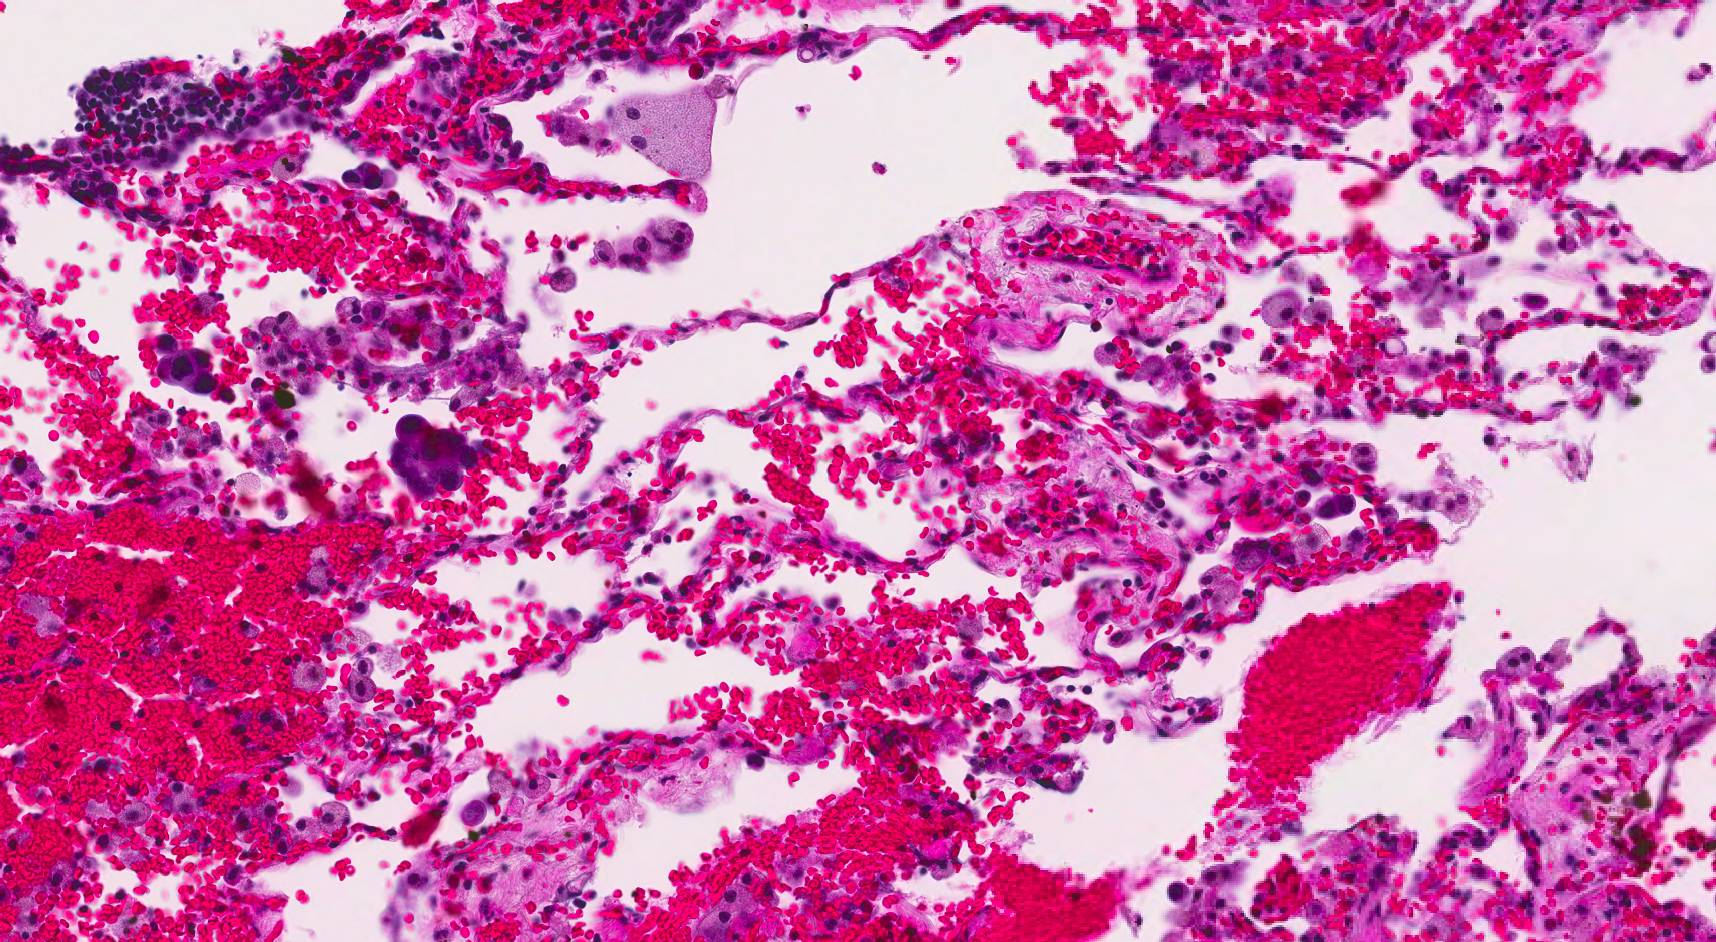stas: (388, 410, 477, 501), (152, 333, 219, 396)
